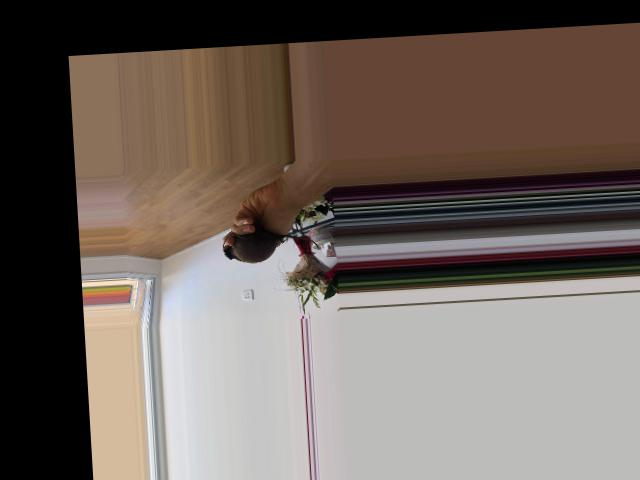beet: (221, 225, 319, 264)
